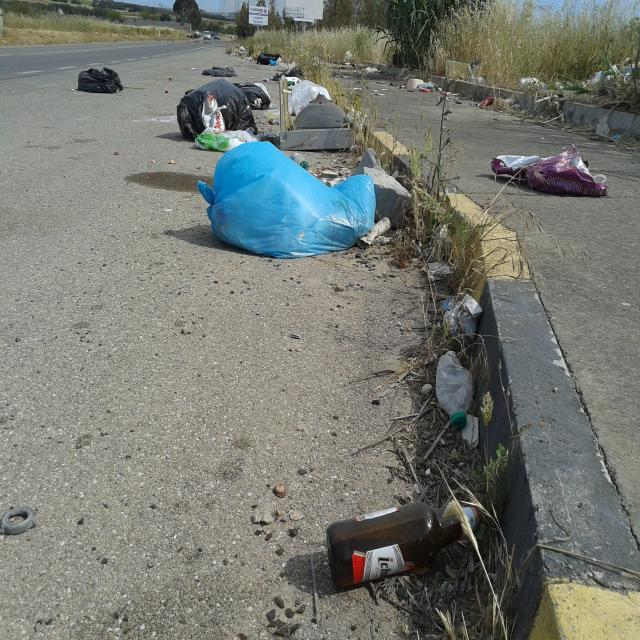garbage: (158, 62, 389, 268), (319, 484, 484, 594), (426, 280, 492, 454), (488, 136, 613, 204), (74, 47, 128, 105), (404, 71, 438, 95)
